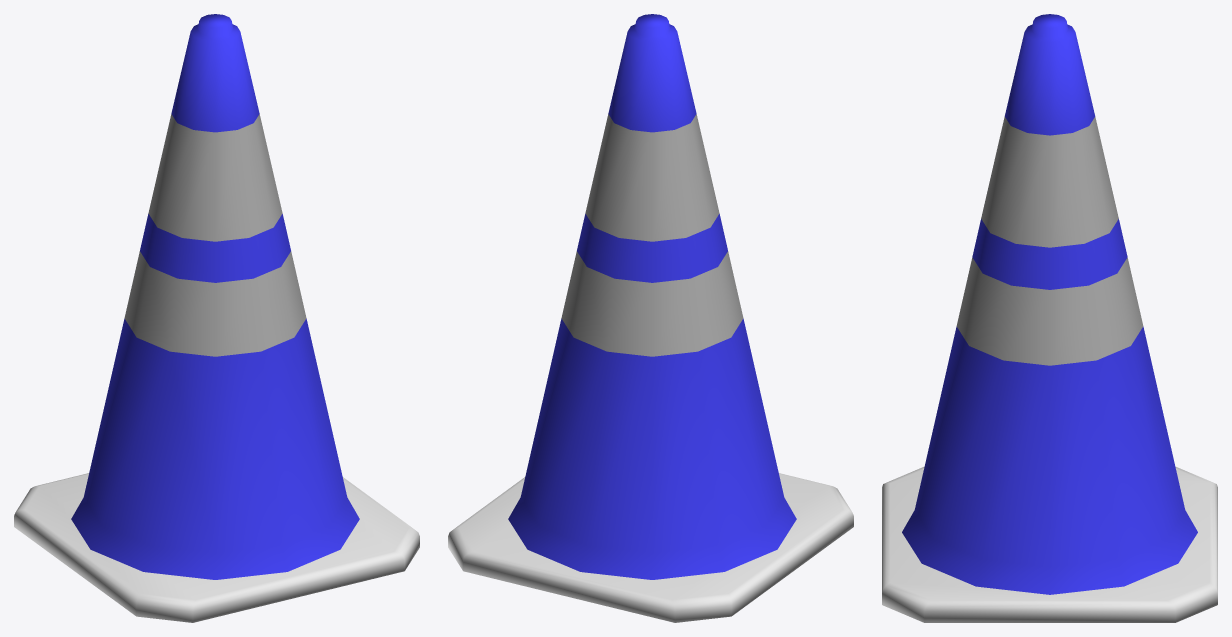
Rendered from blue.dae.
3 views of the same model, side by side, from view 1: azimuth 30°, elevation 25°; view 2: azimuth 150°, elevation 25°; view 3: azimuth 270°, elevation 25° (orthographic). The views are drawn at different scales.
Parts seen in each view (by area): view 1: Cube; view 2: Cube; view 3: Cube.
Boxes of the visible parts, bbox=[...] form: Cube: bbox=[14, 14, 419, 622]; Cube: bbox=[448, 14, 853, 622]; Cube: bbox=[882, 14, 1217, 622].
Size of the model in its own units: 1 by 1 by 1.74.
